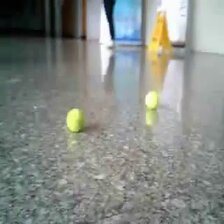tennis: (67, 107, 84, 133), (145, 91, 159, 109)
